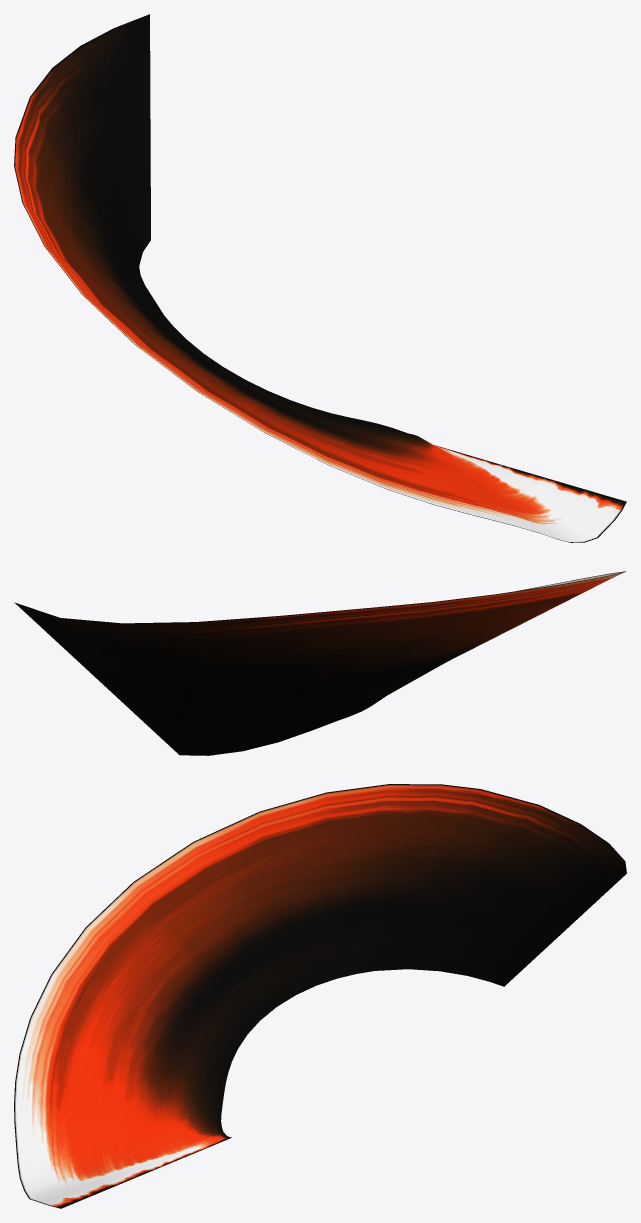
File: mt_daoguang.FBX
3 views of the same model, one above another, from view 1: azimuth 30°, elevation 25°; view 2: azimuth 150°, elevation 25°; view 3: azimuth 270°, elevation 25° (orthographic). The views are drawn at different scales.
Visible parts, largest first — view 1: mt_daoguang; view 2: mt_daoguang; view 3: mt_daoguang.
Boxes of the visible parts, x1,y1,x2,y2 form: mt_daoguang: (14, 14, 626, 542); mt_daoguang: (14, 571, 625, 755); mt_daoguang: (14, 784, 626, 1208).
Size of the model in its own units: 110 by 74.19 by 150.
